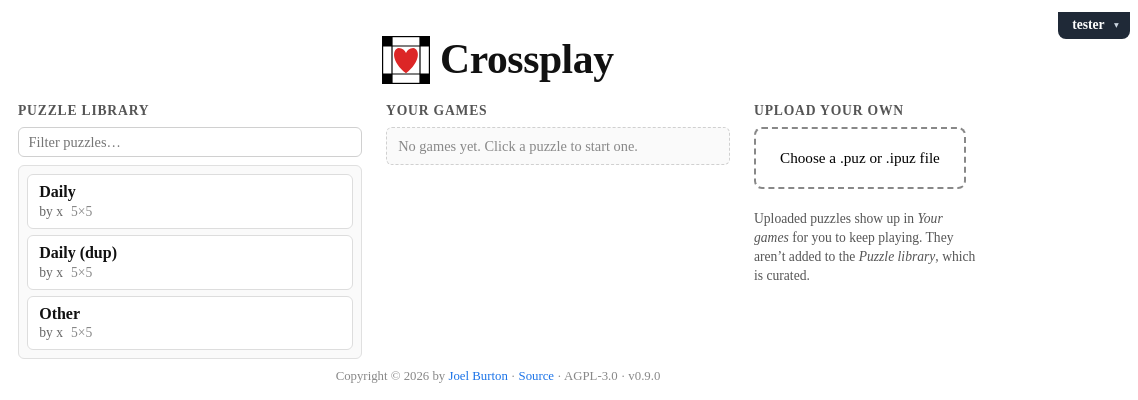
Test: HomePage › filters the puzzle library by id/slug
Type "2026-05" into the search field named "Filter puzzle library". click: (190,142)
box: x1=18 y1=127 x2=362 y2=157
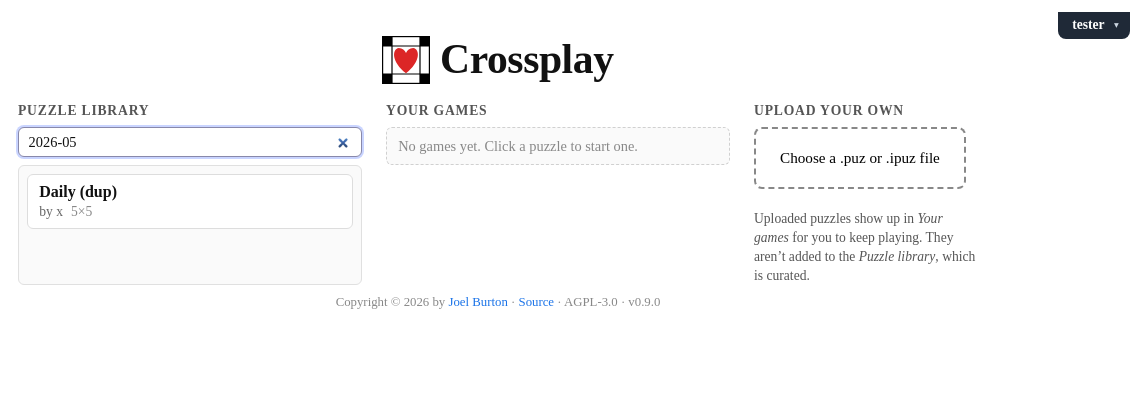
Expected: the text "Daily (dup)" is shown, x1=39 y1=183 x2=117 y2=201
Expected: the button "Other" is gone
